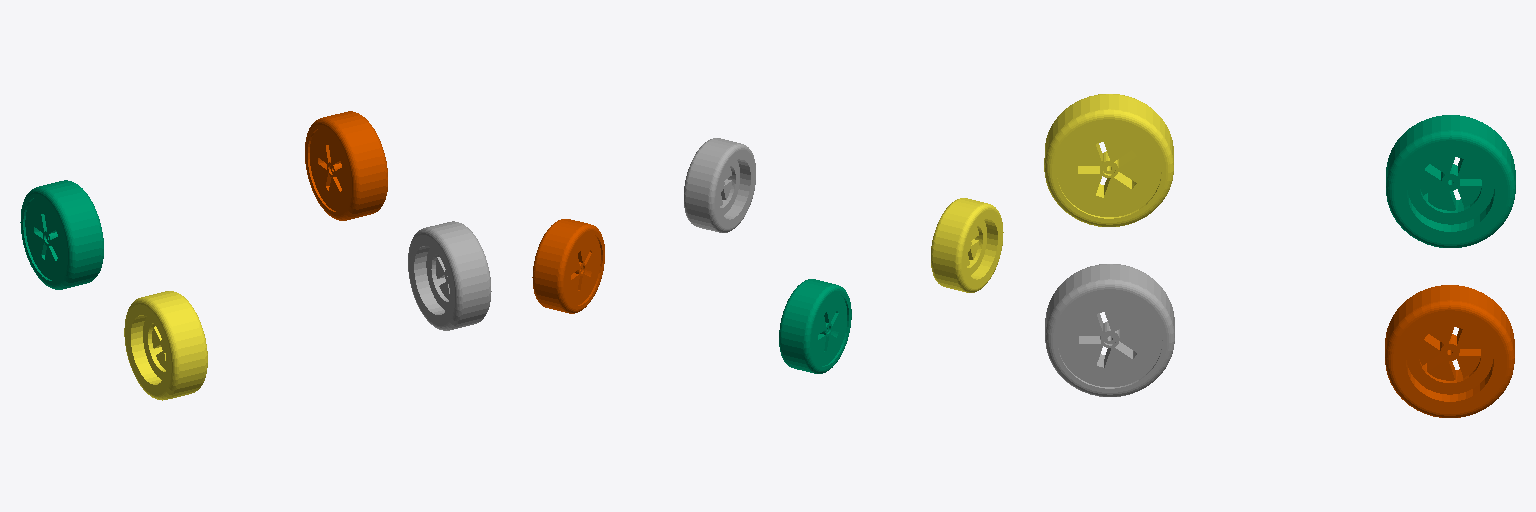
robot.urdf — bigoli:
<robot name="bigoli">

    <!--Car Links-->

    <link name="chassis">
        <inertial>
            <origin xyz="0 0 0"/>
            <mass value="5.0"/>
            <inertia ixx="0.10595165" ixy="-0.002487144" ixz="0.011981253" iyy="0.126271962" iyz="0.011832006" izz="0.033185337"/>
        </inertial>
        <visual>
            <origin rpy="0 0 0" xyz="0 0 0"/>
            <geometry>
                <mesh filename="package://rr_description/meshes/car.dae"/>
            </geometry>
        </visual>
        <collision>
            <geometry>
                <mesh filename="package://rr_description/meshes/car.dae"/>
            </geometry>
        </collision>
    </link>
    <gazebo reference="chassis">
        <material>Gazebo/Grey</material>
    </gazebo>


    <link name="back_axle">
        <inertial> <!--Null inertia-->
            <mass value="0.001"/>
            <inertia ixx="0.001" ixy="0" ixz="0" iyy="0.001" iyz="0" izz="0.001"/>
        </inertial>
    </link>

    <link name="wheel_back_left">
        <inertial>
            <origin rpy="0 0 0" xyz="0 0 0" />
            <mass value="0.1" />
            <inertia  ixx="0.000405599" ixy="0.0"  ixz="0.0"  iyy="0.000405599"  iyz="0.0"  izz="0.000518265" />
        </inertial>
        <visual>
            <origin rpy="0 0 0" xyz="0 0 0"/>
            <geometry>
                <mesh filename="package://rr_description/meshes/wheel.dae"/>
            </geometry>
        </visual>
        <collision>
            <geometry>
                <mesh filename="package://rr_description/meshes/wheel.dae"/>
            </geometry>
        </collision>
    </link>
    <gazebo reference="wheel_back_left">
        <mu1>0.7</mu1>
        <mu2>0.75</mu2>
        <material>Gazebo/Grey</material>
    </gazebo>


    <link name="wheel_back_right">
        <inertial>
            <origin rpy="0 0 0" xyz="0 0 0" />
            <mass value="0.1" />
            <inertia  ixx="0.000405599" ixy="0.0"  ixz="0.0"  iyy="0.000405599"  iyz="0.0"  izz="0.000518265" />
        </inertial>
        <visual>
            <origin rpy="0 0 3.14" xyz="0 0 0"/>
            <geometry>
                <mesh filename="package://rr_description/meshes/wheel.dae"/>
            </geometry>
        </visual>
        <collision>
            <geometry>
                <mesh filename="package://rr_description/meshes/wheel.dae"/>
            </geometry>
        </collision>
    </link>
    <gazebo reference="wheel_back_right">
        <mu1>0.7</mu1>
        <mu2>0.75</mu2>
        <material>Gazebo/Grey</material>
    </gazebo>


    <link name="steering_front_left">
        <inertial> <!--Null inertia-->
            <mass value="0.001"/>
            <inertia ixx="0.001" ixy="0" ixz="0" iyy="0.001" iyz="0" izz="0.001"/>
        </inertial>
    </link>

    <link name="wheel_front_left">
        <inertial>
            <origin xyz="0 0 0" />
            <mass value="0.1" />
            <inertia  ixx="0.000405599" ixy="0.0"  ixz="0.0"  iyy="0.000405599"  iyz="0.0"  izz="0.000518265" />
        </inertial>
        <visual>
            <origin rpy="0 0 0" xyz="0 0 0"/>
            <geometry>
                <mesh filename="package://rr_description/meshes/wheel.dae"/>
            </geometry>
        </visual>
        <collision>
            <geometry>
                <mesh filename="package://rr_description/meshes/wheel.dae"/>
            </geometry>
        </collision>
    </link>
    <gazebo reference="wheel_front_left">
        <mu1>0.7</mu1>
        <mu2>0.75</mu2>
        <material>Gazebo/Grey</material>
    </gazebo>

    <link name="steering_front_right">
        <inertial> <!--Null inertia-->
            <mass value="0.001"/>
            <inertia ixx="0.001" ixy="0" ixz="0" iyy="0.001" iyz="0" izz="0.001"/>
        </inertial>
    </link>

    <link name="wheel_front_right">
        <inertial>
            <origin xyz="0 0 0" />
            <mass value="0.1" />
            <inertia  ixx="0.000405599" ixy="0.0"  ixz="0.0"  iyy="0.000405599"  iyz="0.0"  izz="0.000518265" />
        </inertial>
        <visual>
            <origin rpy="0 0 3.14" xyz="0 0 0"/>
            <geometry>
                <mesh filename="package://rr_description/meshes/wheel.dae"/>
            </geometry>
        </visual>
        <collision>
            <geometry>
                <mesh filename="package://rr_description/meshes/wheel.dae"/>
            </geometry>
        </collision>
    </link>
    <gazebo reference="wheel_front_right">
        <mu1>0.7</mu1>
        <mu2>0.75</mu2>
        <material>Gazebo/Grey</material>
    </gazebo>



    <!--Sensor Links-->

    <link name="laser"/>
    <gazebo reference="laser">
        <sensor type="ray" name="lidar">
            <visualize>false</visualize>
            <update_rate>15</update_rate>
            <ray>
                <scan>
                    <horizontal>
                        <samples>270</samples>
                        <resolution>1</resolution>
                        <min_angle>-2.35619</min_angle>
                        <max_angle>2.35619</max_angle>
                    </horizontal>
                </scan>
                <range>
                    <min>0.05</min>
                    <max>8.00</max>
                    <resolution>0.02</resolution>
                </range>
            </ray>
            <plugin name="lidar_plugin" filename="libgazebo_ros_laser.so">
                <robotNamespace>/</robotNamespace>
                <topicName>/scan</topicName>
                <frameName>/laser</frameName>
            </plugin>
        </sensor>
    </gazebo>


    <link name="imu"/>
    <gazebo reference="imu">
        <gravity>true</gravity>
        <sensor name="imu_sensor" type="imu">
            <always_on>true</always_on>
            <update_rate>100</update_rate>
            <visualize>true</visualize>
            <topic>imu</topic>
            <plugin filename="libgazebo_ros_imu_sensor.so" name="imu_plugin">
                <topicName>imu</topicName>
                <bodyName>imu_link</bodyName>
                <updateRateHZ>50.0</updateRateHZ>
                <gaussianNoise>0.001</gaussianNoise>
                <xyzOffset>0 0 0</xyzOffset>
                <rpyOffset>0 0 0</rpyOffset>
                <frameName>imu_link</frameName>
            </plugin>
            <pose>0 0 0 0 0 0</pose>
        </sensor>
    </gazebo>


    <link name="camera_base">
        <inertial> <!--Null inertia-->
            <mass value="0.001"/>
            <inertia ixx="0.001" ixy="0" ixz="0" iyy="0.001" iyz="0" izz="0.001"/>
        </inertial>
    </link>


    <link name="camera">
        <inertial> <!--Null inertia-->
            <mass value="0.001"/>
            <inertia ixx="0.001" ixy="0" ixz="0" iyy="0.001" iyz="0" izz="0.001"/>
        </inertial>
    </link>
    <gazebo reference="camera">
        <sensor name="camera_sensor" type="depth">
            <camera>
                <horizontal_fov>1.02974<!-- 59 deg in rad --></horizontal_fov>
                <image>
                    <width>320</width>
                    <height>240</height>
                    <format>R8G8B8</format>
                </image>
                <clip>
                    <near>0.05</near>
                    <far>100</far>
                </clip>
            </camera>
            <always_on>true</always_on>
            <update_rate>30</update_rate>
            <visualize>false</visualize>
            <plugin name="camera_controller" filename="libgazebo_ros_openni_kinect.so">
                <robotNamespace>/</robotNamespace>
                <baseline>0.1</baseline>
                <alwaysOn>true</alwaysOn>
                <updateRate>30.0</updateRate>
                <cameraName>camera</cameraName>
                <imageTopicName>image_raw</imageTopicName>
                <cameraInfoTopicName>camera_info</cameraInfoTopicName>
                <depthImageTopicName>depth/image_raw</depthImageTopicName>
                <depthImageInfoTopicName>depth/camera_info</depthImageInfoTopicName>
                <pointCloudTopicName>depth/points</pointCloudTopicName>
                <frameName>camera_optical</frameName>
                <pointCloudCutoff>0.4</pointCloudCutoff>
                <distortionK1>0.00000001</distortionK1>
                <distortionK2>0.00000001</distortionK2>
                <distortionK3>0.00000001</distortionK3>
                <distortionT1>0.00000001</distortionT1>
                <distortionT2>0.00000001</distortionT2>
                <CxPrime>0</CxPrime>
                <Cx>0</Cx>
                <Cy>0</Cy>
                <focalLength>0</focalLength>
                <!--<hackBaseline>0</hackBaseline>-->
            </plugin>
        </sensor>
    </gazebo>

    <link name="camera_optical"/>


    <link name="base_footprint">
        <inertial> <!--Null inertia-->
            <mass value="0.001"/>
            <inertia ixx="0.001" ixy="0" ixz="0" iyy="0.001" iyz="0" izz="0.001"/>
        </inertial>
    </link>



    <!--Joints-->

    <joint name="base_footprint_to_chassis" type="fixed">
        <parent link="base_footprint"/>
        <child link="chassis"/>
        <origin xyz="0 0 0.036" rpy="0 0 0"/>
    </joint>

    <joint name="chassis_to_back_axle" type="fixed">
        <parent link="chassis"/>
        <child link="back_axle"/>
        <origin xyz="0 0 0" rpy="0 0 0"/>
    </joint>

    <joint name="axle_to_left_wheel" type="continuous">
        <parent link="back_axle"/>
        <child link="wheel_back_left"/>
        <origin xyz="0 0.14439 0" rpy="0 0 0"/>
        <axis xyz="0 1 0"/>
    </joint>
    <joint name="axle_to_right_wheel" type="continuous">
        <parent link="back_axle"/>
        <child link="wheel_back_right"/>
        <origin xyz="0 -0.14439 0" rpy="0 0 0"/>
        <axis xyz="0 1 0"/>
    </joint>

    <joint name="chassis_to_left_steering" type="revolute">
        <parent link="chassis"/>
        <child link="steering_front_left"/>
        <origin xyz="0.34 0.14366 0" rpy="0 0 0"/>
        <axis xyz="0 0 1"/>
        <limit lower="-0.366519" upper="0.366519" effort="100000.0" velocity="1000000.0"/>
    </joint>
    <joint name="left_steering_to_wheel" type="continuous">
        <parent link="steering_front_left"/>
        <child link="wheel_front_left"/>
        <origin xyz="0 0 0" rpy="0 0 0"/>
        <axis xyz="0 1 0"/>
    </joint>

    <joint name="chassis_to_right_steering" type="revolute">
        <parent link="chassis"/>
        <child link="steering_front_right"/>
        <origin xyz="0.34 -0.14366 0" rpy="0 0 0"/>
        <axis xyz="0 0 1"/>
        <limit lower="-0.366519" upper="0.366519" effort="1000.0" velocity="1000.0"/>
    </joint>
    <joint name="right_steering_to_wheel" type="continuous">
        <parent link="steering_front_right"/>
        <child link="wheel_front_right"/>
        <origin xyz="0 0 0" rpy="0 0 0"/>
        <axis xyz="0 1 0"/>
    </joint>

    <joint name="cam_chassis_height" type="fixed">
        <parent link="chassis"/>
        <child link="camera_base"/>
        <origin xyz="0.21793 0 0.22" rpy="0 0 0"/>
    </joint>

    <joint name="camera_tilt" type="fixed">
        <parent link="camera_base"/>
        <child link="camera"/>
        <origin xyz="0 0 0" rpy="0 0 0"/>
        <axis xyz="0 1 0"/>
        <limit lower="0" upper="3.14" effort="1000.0" velocity="1000.0"/>
    </joint>

    <joint name="camera_optical_joint" type="fixed">
        <parent link="camera"/>
        <child link="camera_optical"/>
        <origin xyz="0 0 0" rpy="-1.5708 0 -1.5708"/>
    </joint>

    <joint name="lidar_joint" type="fixed">
        <parent link="chassis"/>
        <child link="laser"/>
        <origin xyz="0.275 0 0.110" rpy="0 0 0"/>
    </joint>

    <joint name="imu" type="fixed">
        <parent link="chassis"/>
        <child link="imu"/>
        <origin xyz="0 0 0.1778" rpy="0 0 0"/>
    </joint>

    <!--Actuators-->

    <gazebo>
        <plugin name="gazebo_ros_control" filename="libgazebo_ros_control.so">
            <robotNamespace>/</robotNamespace>
        </plugin>
    </gazebo>

    <transmission name="trans_back_left">
        <type>transmission_interface/SimpleTransmission</type>
        <joint name="axle_to_left_wheel">
            <hardwareInterface>hardware_interface/EffortJointInterface</hardwareInterface>
        </joint>
        <actuator name="motor_left">
            <hardwareInterface>hardware_interface/EffortJointInterface</hardwareInterface>
            <mechanicalReduction>1</mechanicalReduction>
        </actuator>
    </transmission>

    <transmission name="trans_back_right">
        <type>transmission_interface/SimpleTransmission</type>
        <joint name="axle_to_right_wheel">
            <hardwareInterface>hardware_interface/EffortJointInterface</hardwareInterface>
        </joint>
        <actuator name="motor_right">
            <hardwareInterface>hardware_interface/EffortJointInterface</hardwareInterface>
            <mechanicalReduction>1</mechanicalReduction>
        </actuator>
    </transmission>

    <transmission name="left_steering_trans">
        <type>transmission_interface/SimpleTransmission</type>
        <joint name="chassis_to_left_steering">
            <hardwareInterface>hardware_interface/EffortJointInterface</hardwareInterface>
        </joint>
        <actuator name="left_steer_motor">
            <hardwareInterface>hardware_interface/EffortJointInterface</hardwareInterface>
            <mechanicalReduction>1</mechanicalReduction>
        </actuator>
    </transmission>

    <transmission name="right_steering_trans">
        <type>transmission_interface/SimpleTransmission</type>
        <joint name="chassis_to_right_steering">
            <hardwareInterface>hardware_interface/EffortJointInterface</hardwareInterface>
        </joint>
        <actuator name="right_steer_motor">
            <hardwareInterface>hardware_interface/EffortJointInterface</hardwareInterface>
            <mechanicalReduction>1</mechanicalReduction>
        </actuator>
    </transmission>

</robot>

--- Render facts (derived) ---
3 views of the same robot in one strip: view 1: azimuth 30°, elevation 25°; view 2: azimuth 150°, elevation 25°; view 3: azimuth 270°, elevation 25° (orthographic).
Model bigoli with 14 links and 13 joints (2 revolute, 4 continuous, 7 fixed), rooted at base_footprint, posed all joints at 0.
Visible links, largest first — view 1: wheel_back_right, wheel_front_left, wheel_back_left, wheel_front_right; view 2: wheel_back_left, wheel_back_right, wheel_front_right, wheel_front_left; view 3: wheel_back_left, wheel_front_left, wheel_back_right, wheel_front_right.
Link boxes in pixels (x1=…): wheel_back_right: x1=124, y1=291, x2=207, y2=400; wheel_front_left: x1=305, y1=111, x2=387, y2=220; wheel_back_left: x1=20, y1=180, x2=103, y2=289; wheel_front_right: x1=408, y1=221, x2=491, y2=330; wheel_back_left: x1=779, y1=279, x2=851, y2=373; wheel_back_right: x1=931, y1=198, x2=1003, y2=292; wheel_front_right: x1=684, y1=138, x2=755, y2=232; wheel_front_left: x1=532, y1=219, x2=604, y2=313; wheel_back_left: x1=1386, y1=115, x2=1515, y2=247; wheel_front_left: x1=1385, y1=285, x2=1514, y2=417; wheel_back_right: x1=1044, y1=94, x2=1173, y2=226; wheel_front_right: x1=1045, y1=264, x2=1174, y2=396.
Size in the robot's own frame: 0.4248 by 0.3982 by 0.1097 metres.
4 mesh visuals loaded from 2 distinct referenced files (1 Collada DAE); not drawn: 1 (reference not matched to a file when rendering).
